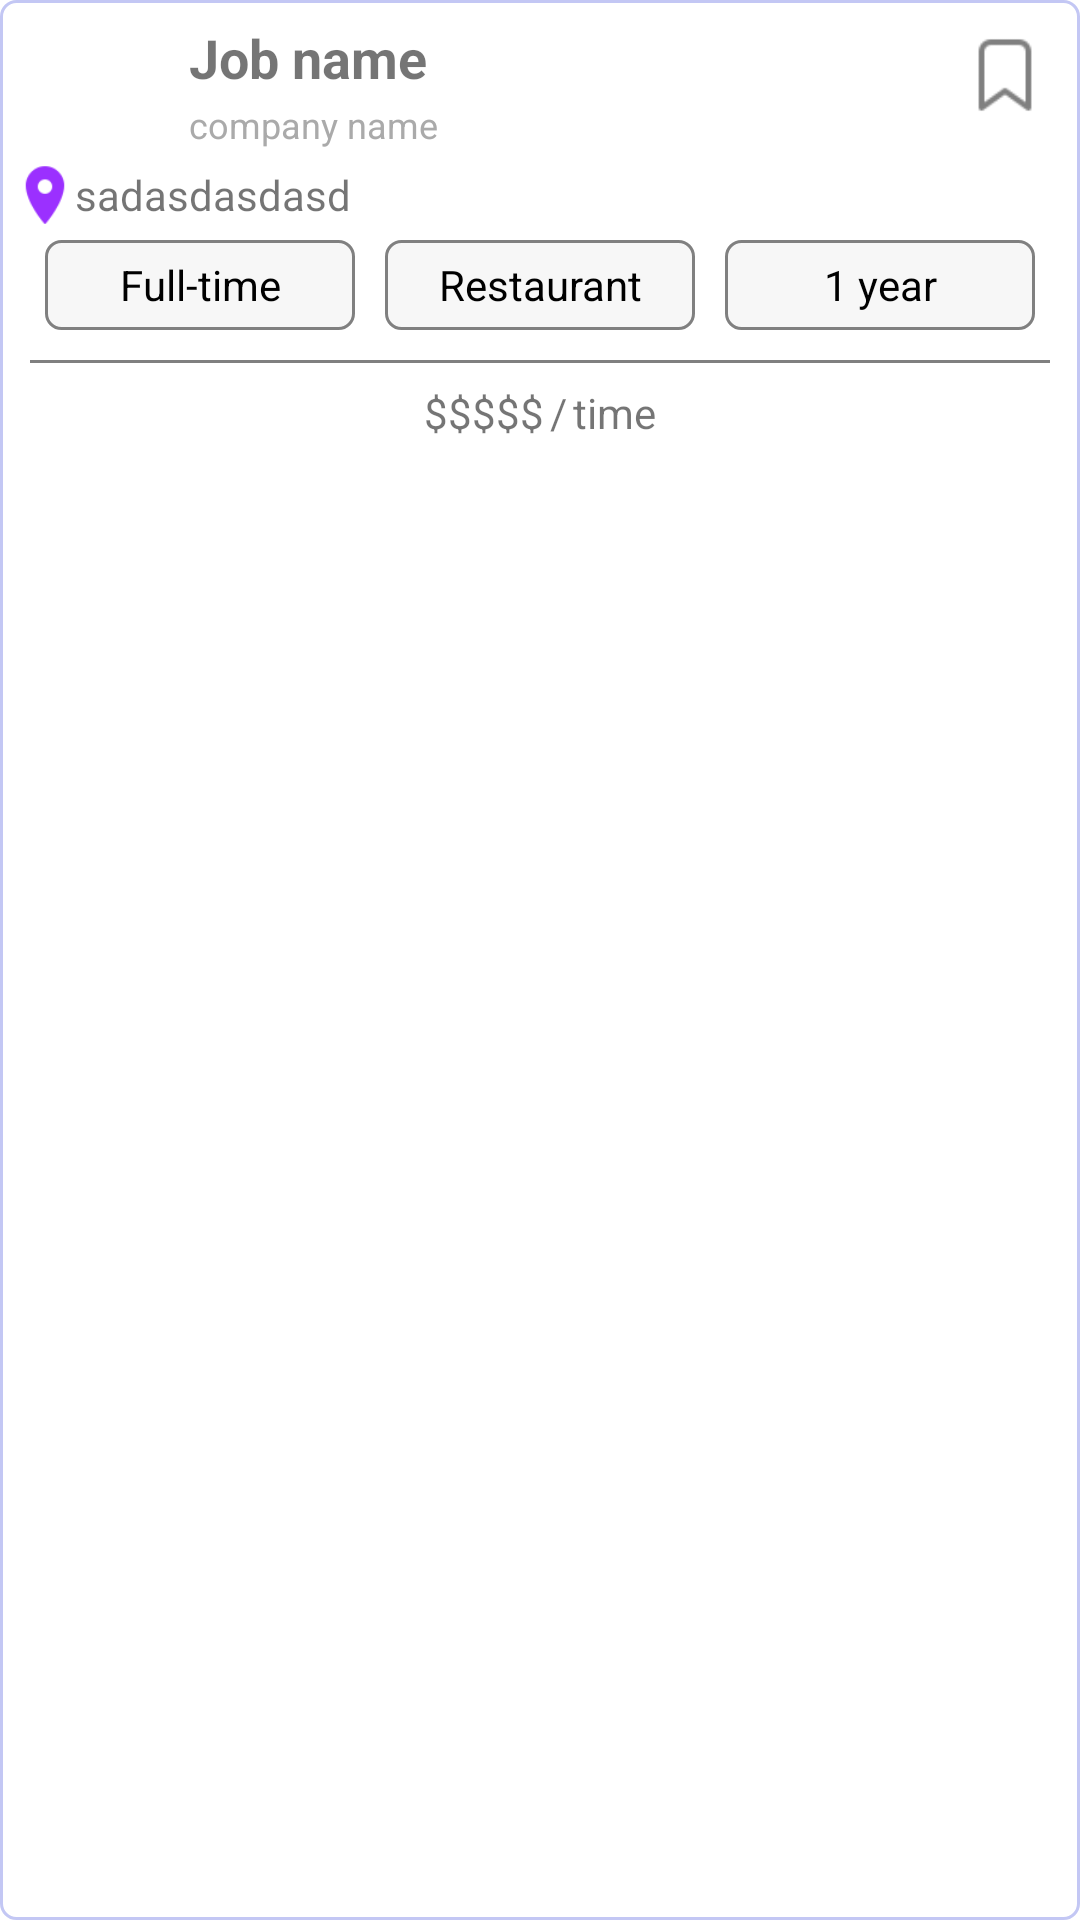

Icons on this 1080w x 1920h Android screen, each with its box as (x1,y1,x2,y2):
bookmark: (978,39,1032,111)
location: (25,166,65,224)
